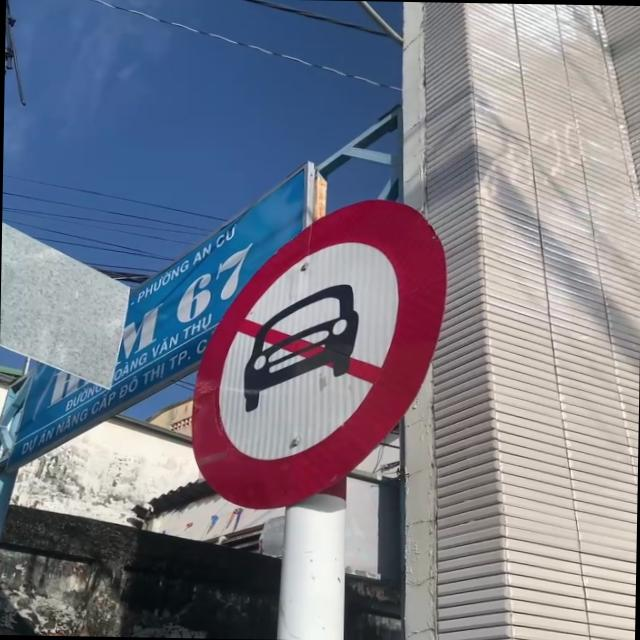Cam_O_To: (189, 197, 453, 512)
